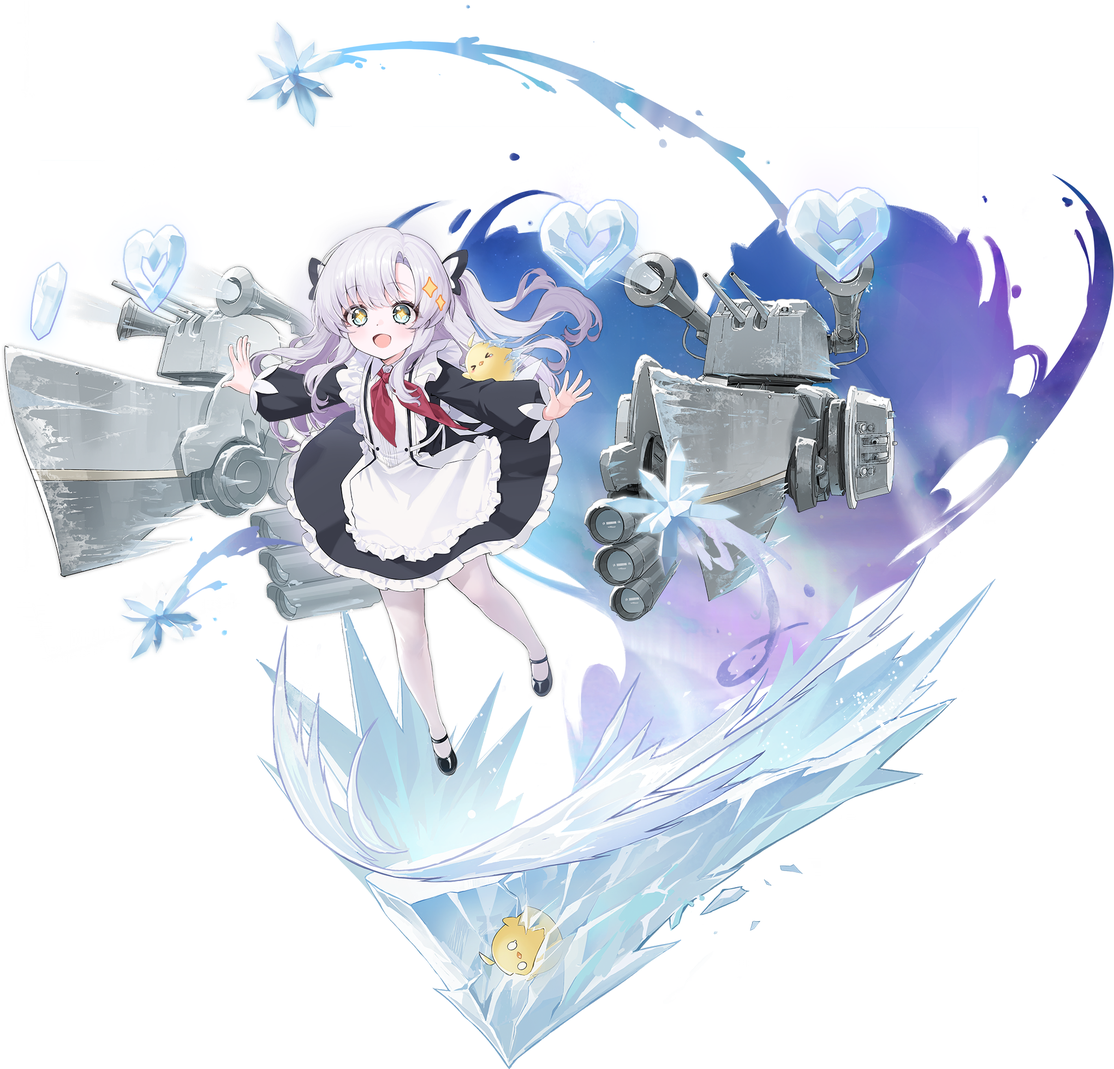person: (26, 165, 631, 859)
